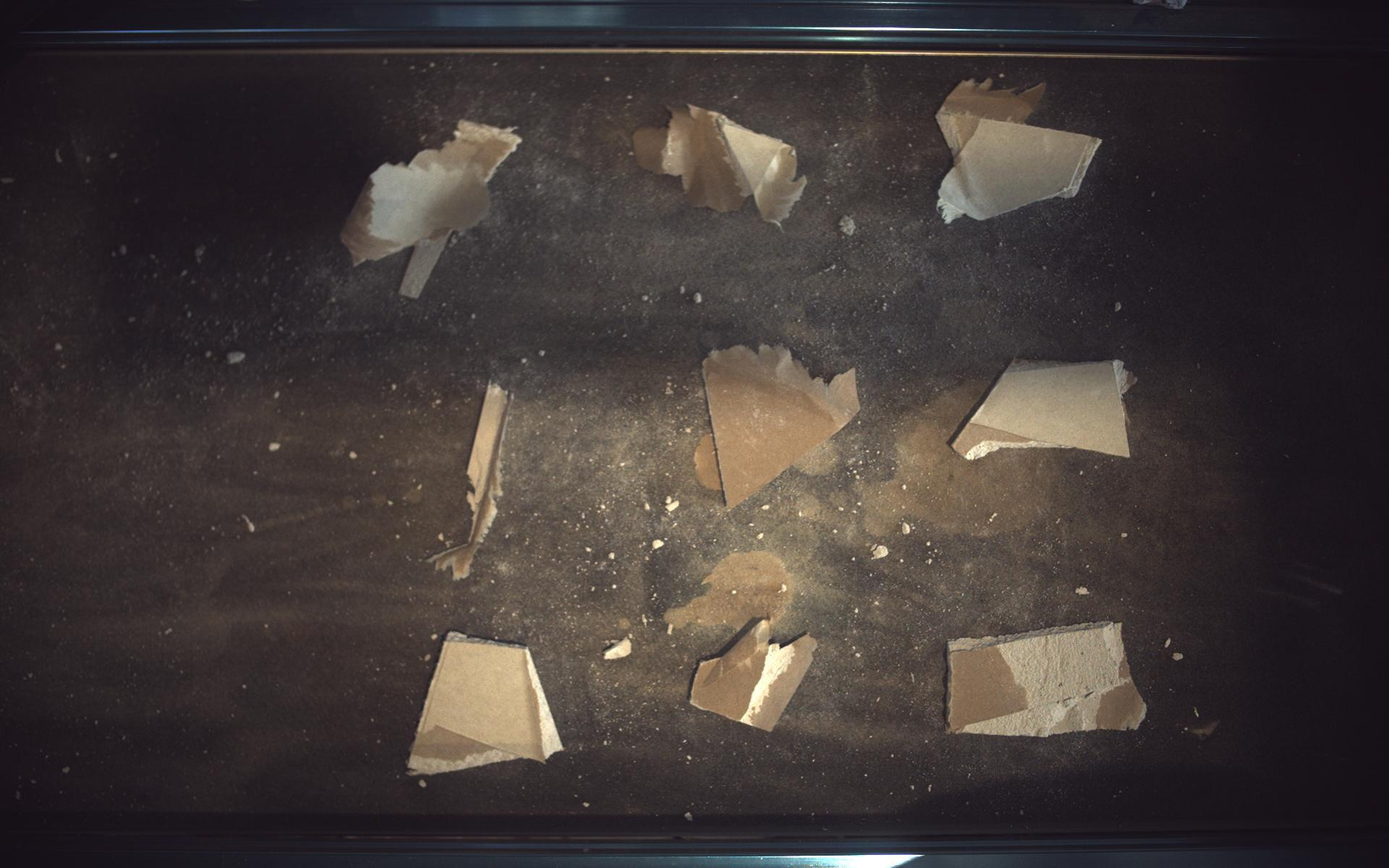gypsum_board: (341, 119, 521, 298), (703, 344, 861, 509), (938, 77, 1103, 223), (949, 624, 1149, 738), (407, 632, 563, 776), (633, 103, 808, 225), (954, 360, 1138, 460), (428, 382, 512, 580), (691, 621, 818, 733)
